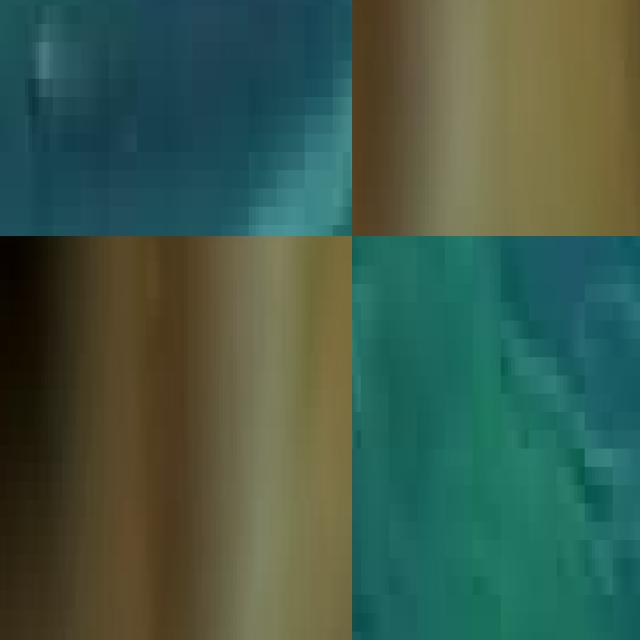fish: (0, 236, 257, 640), (0, 0, 352, 236), (352, 0, 498, 236)
